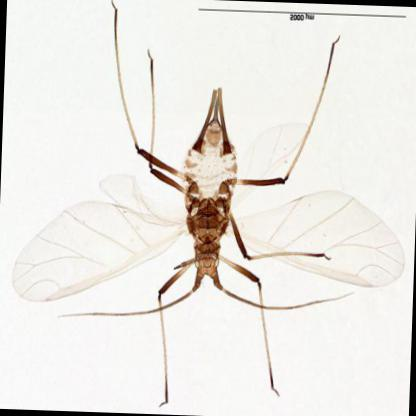uroleucon compositae: (11, 47, 408, 388)
